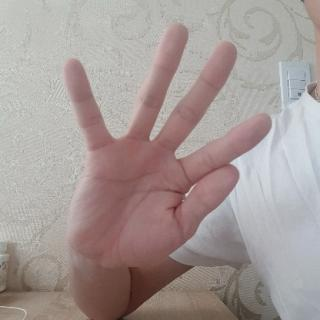SHEEN: (56, 14, 274, 278)
